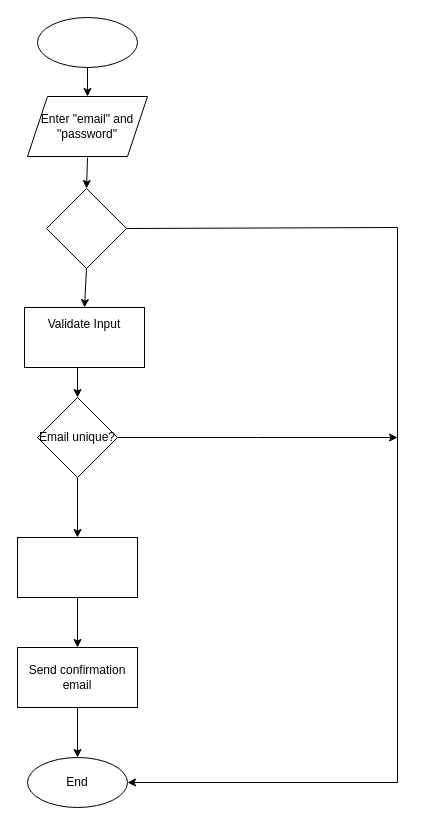
This 423x825 diagram has some shape labels left out. The shapes that lost their labels are listed below. From the top down, each one's centre as x and y in pixels, then its label:
At pixel 87 42: "Start".
At pixel 86 228: "Input valid?".
At pixel 77 567: "Save user to database".
